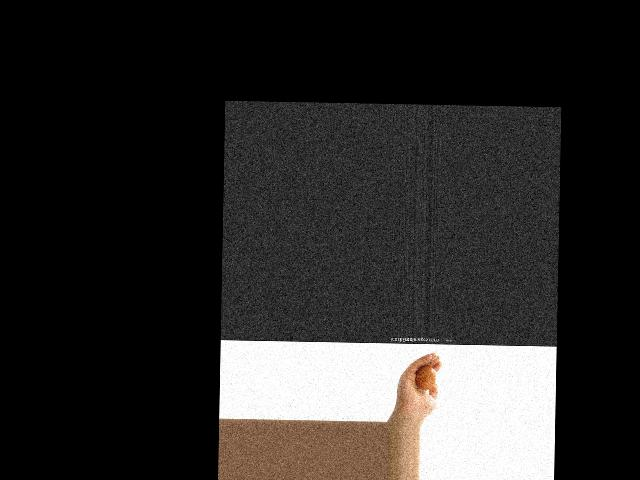egg: (415, 363, 436, 390)
